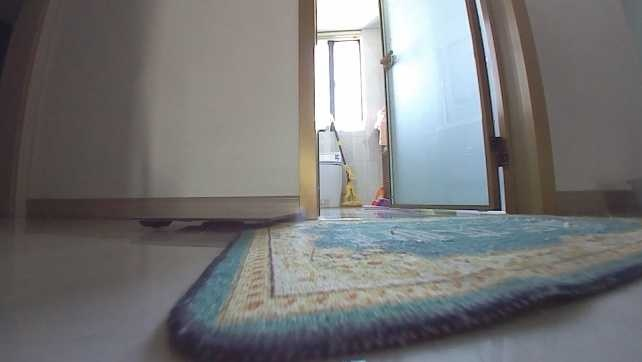blanket: (162, 212, 641, 361)
door_anno: (375, 0, 514, 212)
toilet: (317, 150, 347, 206)
